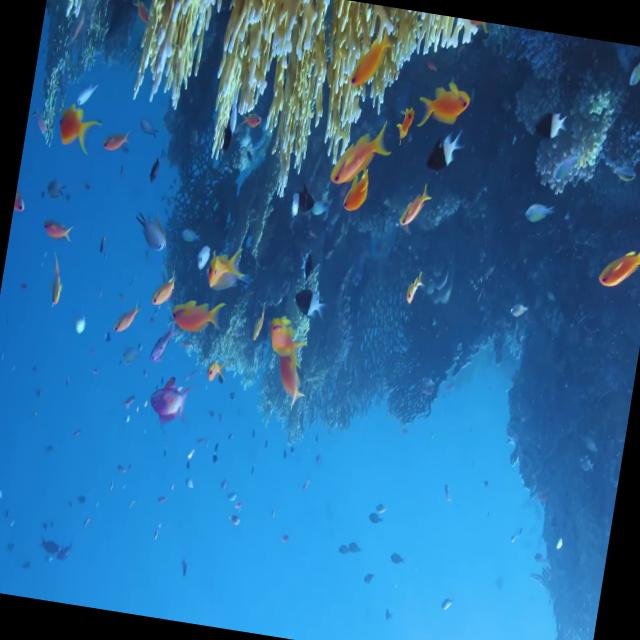fish: (331, 122, 388, 194), (417, 78, 473, 134), (348, 29, 394, 90), (204, 242, 253, 295), (146, 372, 194, 425), (598, 238, 640, 292), (424, 124, 465, 178), (263, 314, 309, 362), (168, 295, 224, 333), (274, 353, 312, 408), (56, 106, 101, 152), (396, 181, 433, 231), (532, 108, 569, 144)
